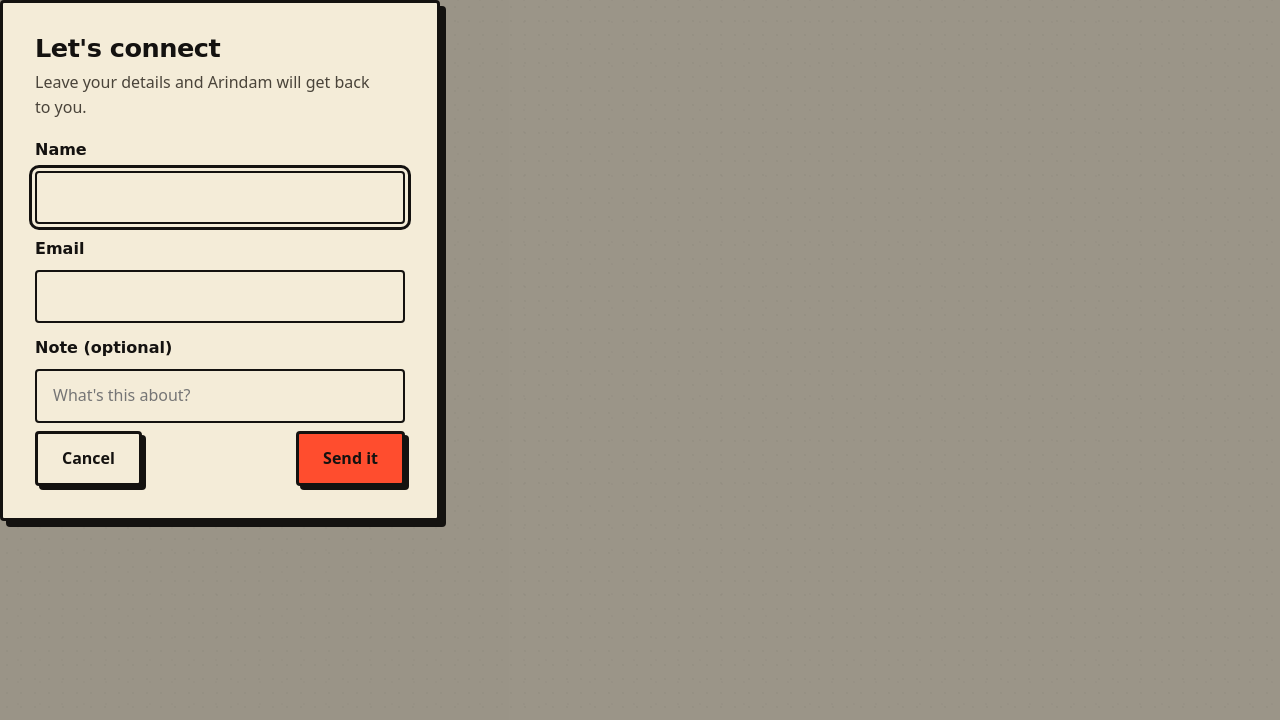
Test: ConnectForm submit › shows an inline error and keeps the form open when the post fails
Type "Jane" into the field labelled "Name" at (220, 197), box [35,171,405,224]
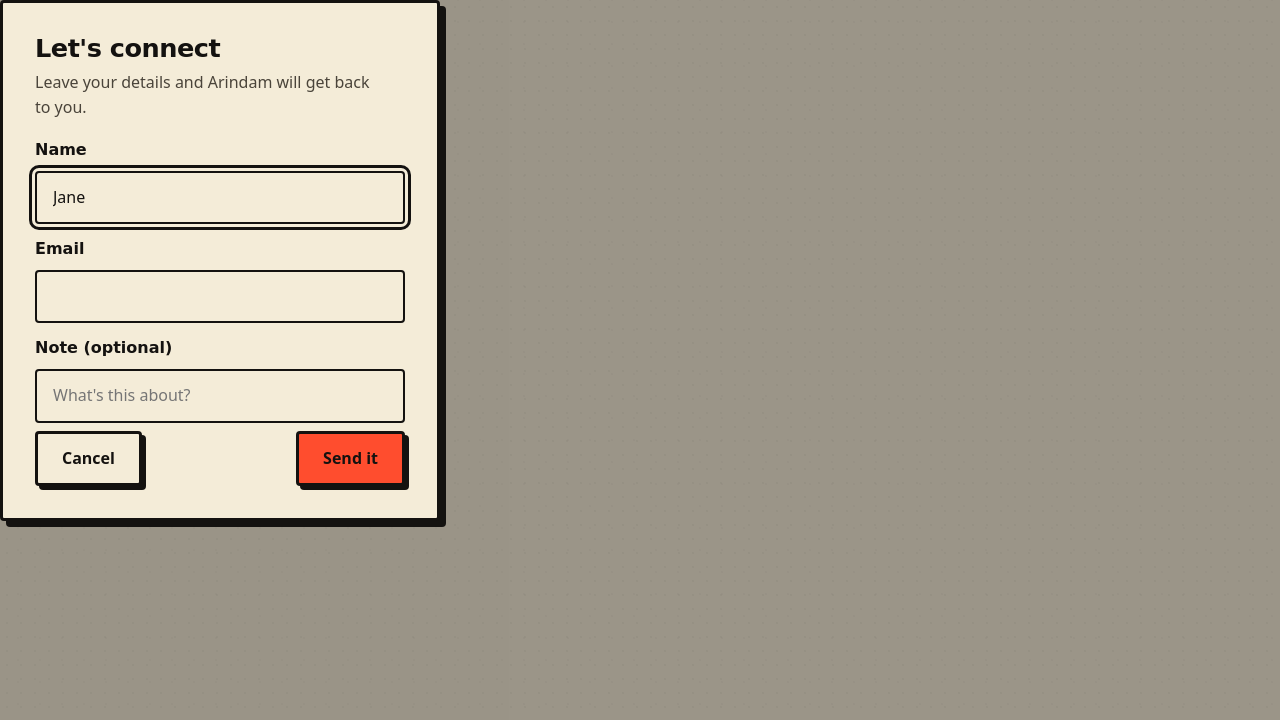
Type "jane@example.com" into the field labelled "Email" at (220, 297), box [35,270,405,323]
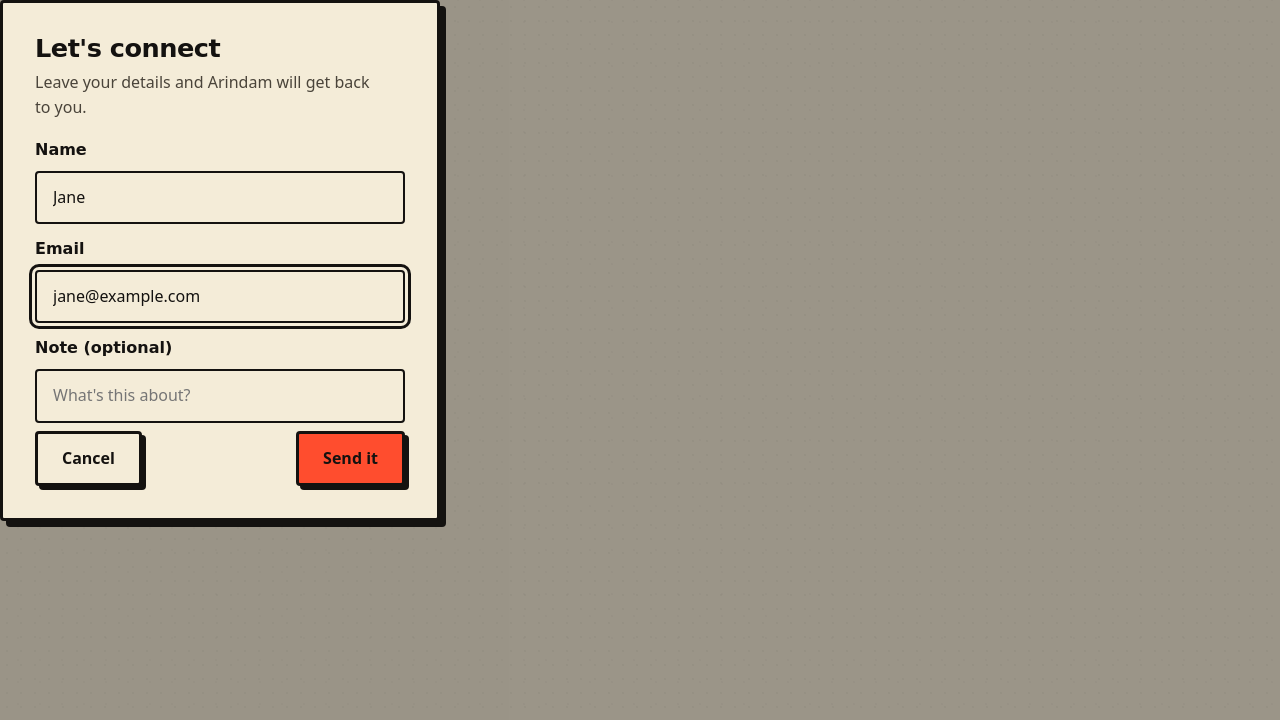
Click the button "Send it" at (351, 458), box [296,431,405,486]
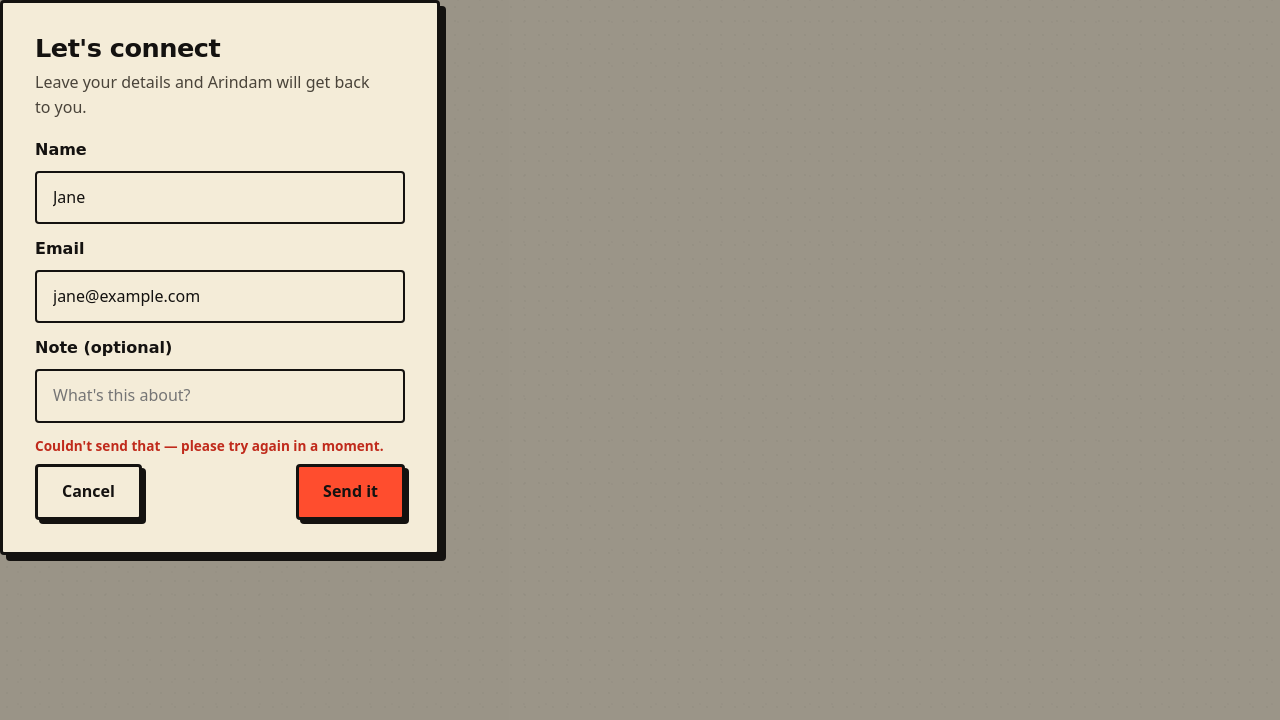
Expected: the button "Send it" is shown, [296,464,405,520]
Expected: the message shows "try again", [35,436,384,455]
